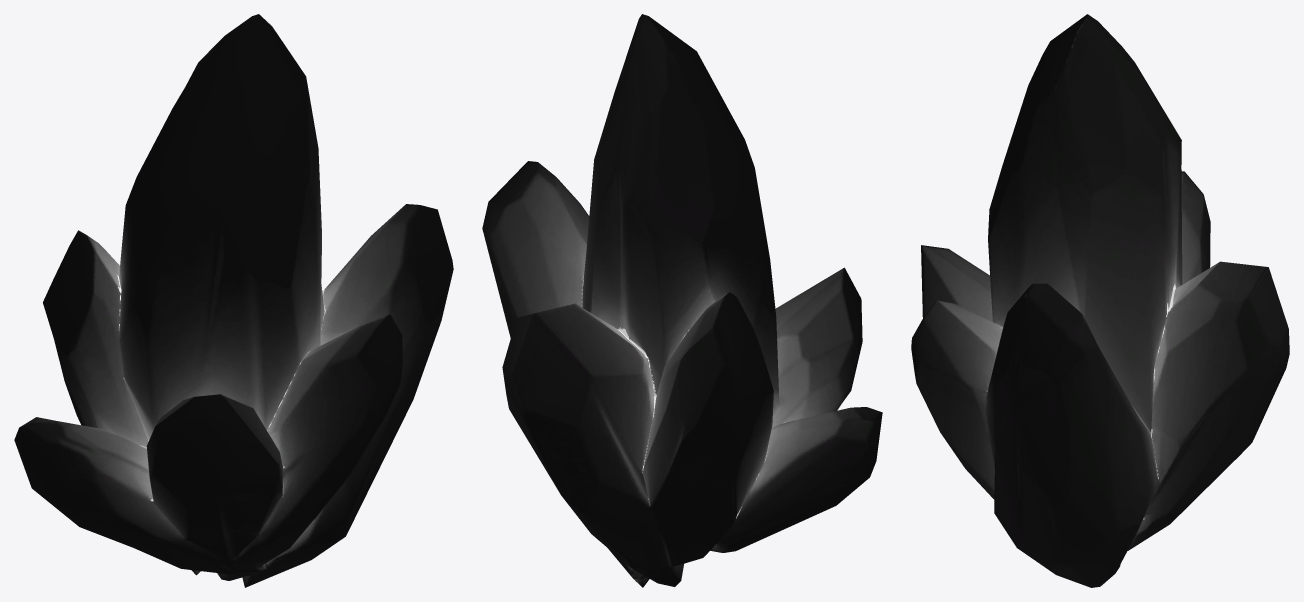
Rendered from dark.gltf.
3 views of the same model, side by side, from view 1: azimuth 30°, elevation 25°; view 2: azimuth 150°, elevation 25°; view 3: azimuth 270°, elevation 25° (orthographic).
Visible parts, largest first — view 1: Crystal (1)_3; view 2: Crystal (1)_3; view 3: Crystal (1)_3.
Part boxes in pixels (box(x1,y1,x2,y2)): Crystal (1)_3: box(14, 14, 453, 587); Crystal (1)_3: box(482, 14, 882, 587); Crystal (1)_3: box(911, 14, 1289, 587).
Size of the model in its own units: 1.2 by 1.62 by 0.9695.
1 material, 1 textured.
